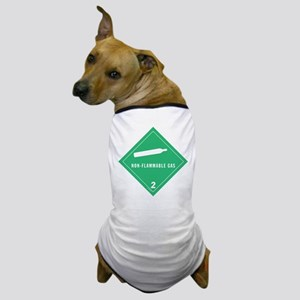NonFlammableGas: (118, 127, 189, 197)
